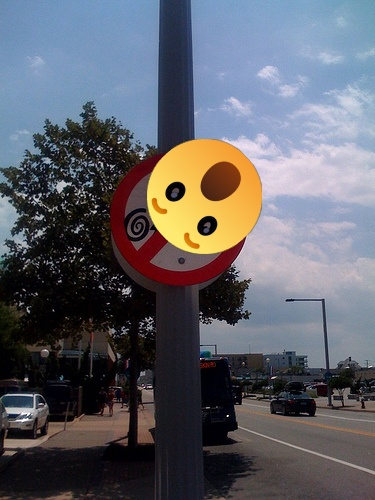wow: (147, 139, 262, 254)
